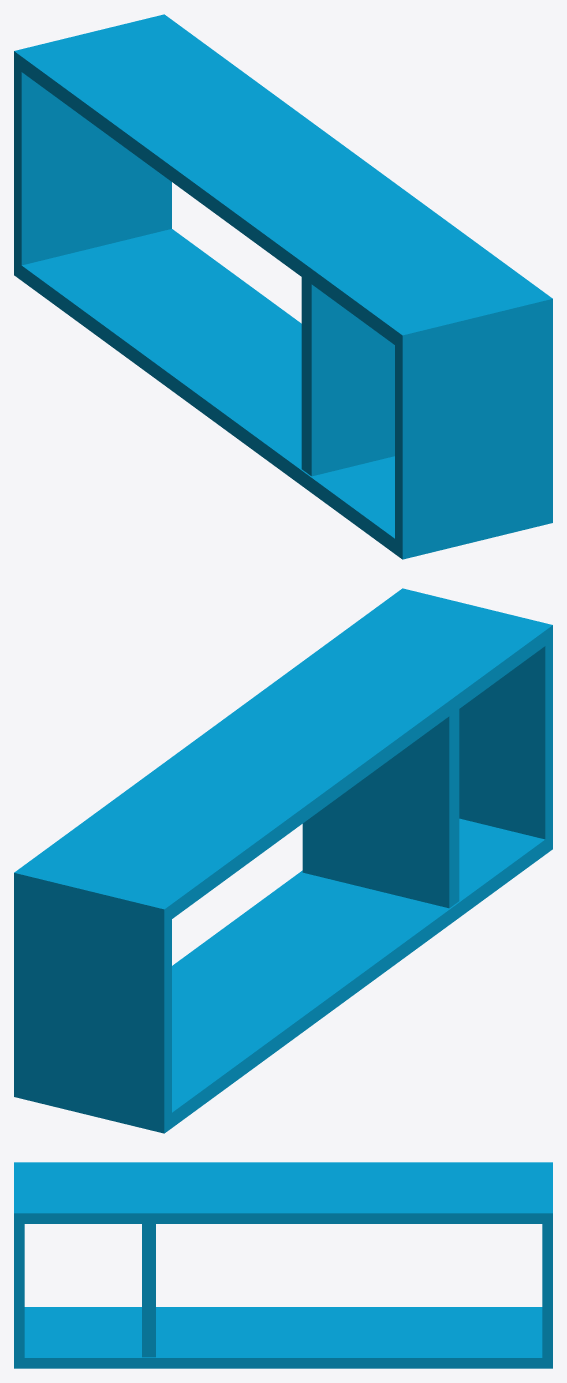
Rendered from Office_Cupboard_2B_Lod.fbx.
3 renders of one model, top to bottom at view 1: azimuth 30°, elevation 25°; view 2: azimuth 150°, elevation 25°; view 3: azimuth 270°, elevation 25°, orthographic. The views are drawn at different scales.
Visible parts, largest first — view 1: Office_Cupboard_2B_Lod; view 2: Office_Cupboard_2B_Lod; view 3: Office_Cupboard_2B_Lod.
Part boxes in pixels (box(x1,y1,x2,y2)): Office_Cupboard_2B_Lod: box(14, 14, 552, 559); Office_Cupboard_2B_Lod: box(14, 588, 552, 1133); Office_Cupboard_2B_Lod: box(14, 1162, 552, 1368).
Bounding box in the file's own units: 29.52 × 42.04 × 132.
